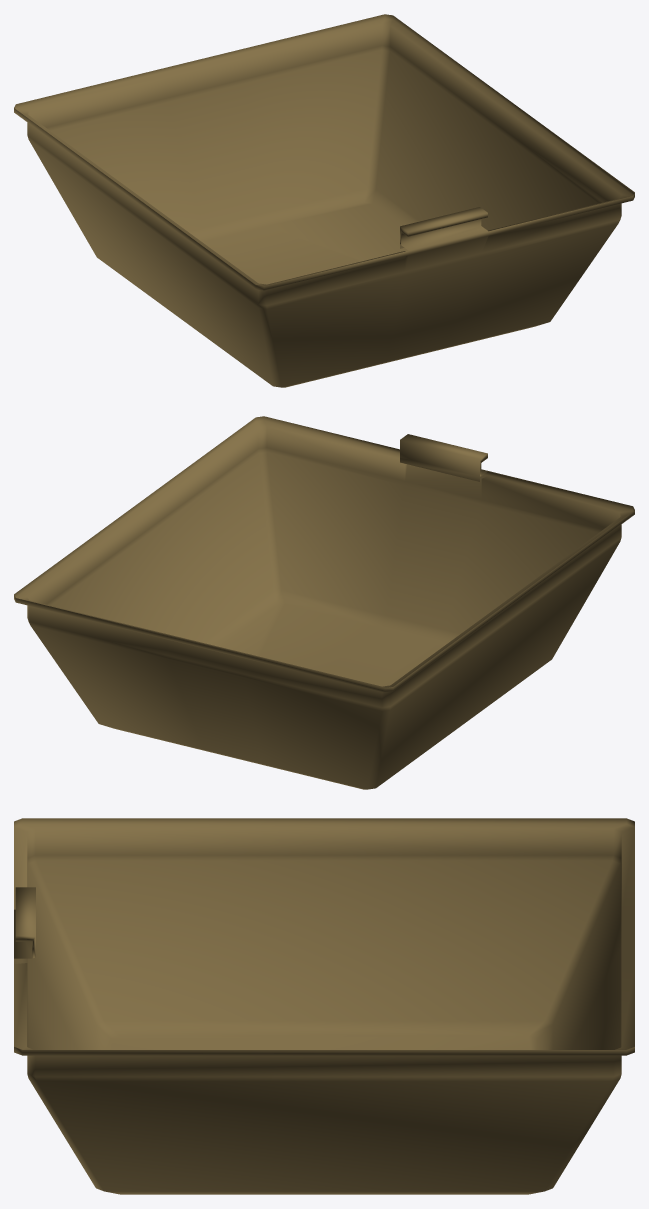
The model's file is Mesh_BurgerBox_Main.fbx.
3 views of the same model, one above another, from view 1: azimuth 30°, elevation 25°; view 2: azimuth 150°, elevation 25°; view 3: azimuth 270°, elevation 25° (orthographic). The views are drawn at different scales.
Parts seen in each view (by area): view 1: burgerbox_main.001; view 2: burgerbox_main.001; view 3: burgerbox_main.001.
Part boxes in pixels (box(x1,y1,x2,y2)): burgerbox_main.001: box(14, 14, 634, 387); burgerbox_main.001: box(14, 416, 634, 789); burgerbox_main.001: box(14, 818, 634, 1194).
Size of the model in its own units: 18.01 by 7.39 by 20.42.
